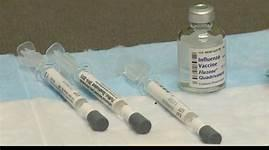Syringe: (7, 39, 115, 134), (108, 57, 225, 144), (172, 2, 231, 95)
